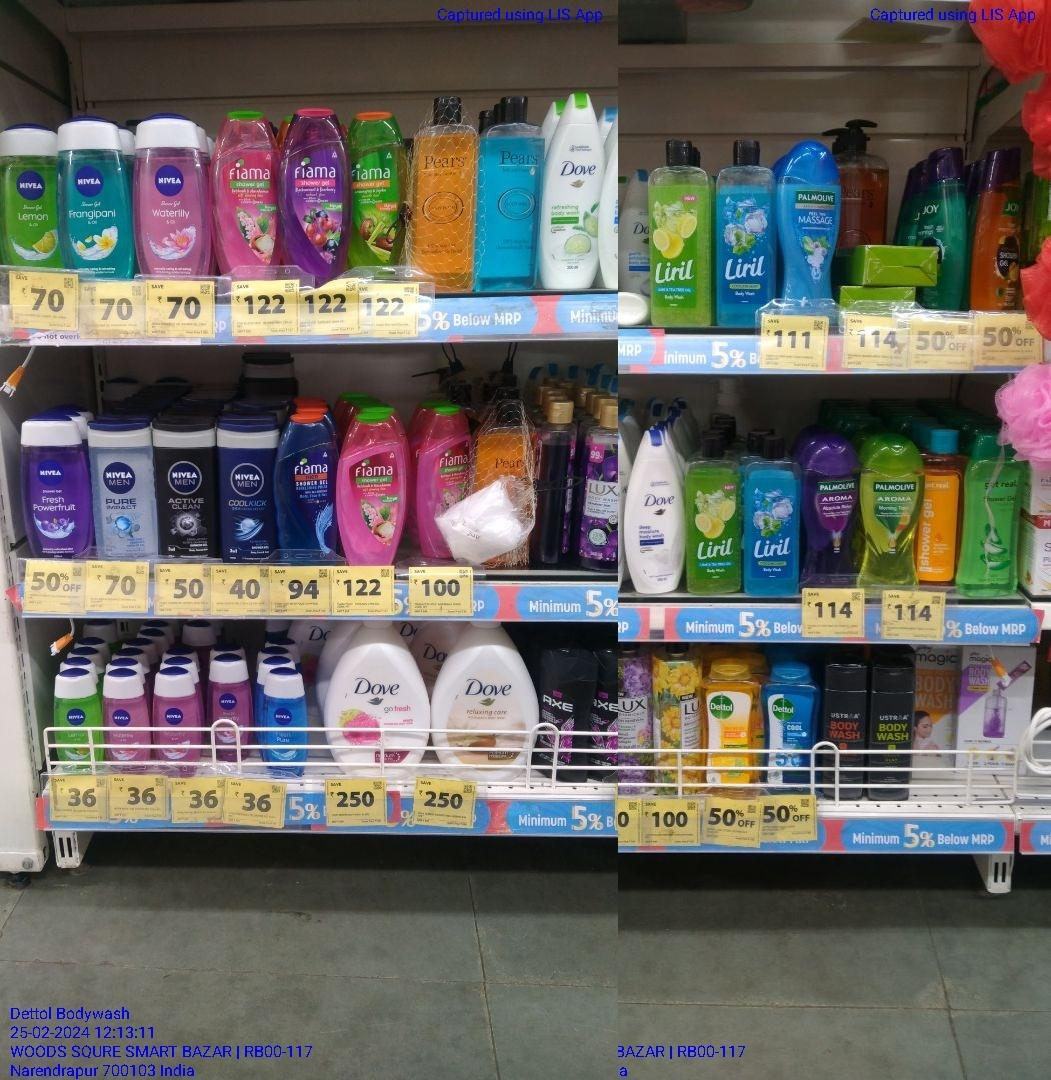Dettol_Bodywash_Cool: (765, 666, 817, 793)
Dettol_Bodywash_Refresh: (699, 664, 761, 792)
Dove_Deep_Moisture_Body_Wash_250ML: (627, 427, 682, 593)
Dove_Refreshing_Body_Wash_250ML: (545, 93, 604, 288)
Fiama_Shower_Gel_Patchouli_and_Macadamia_250ML: (211, 111, 283, 285), (337, 410, 405, 564)
Liril_Cooling_Mint_Body_Wash_250ML: (716, 137, 775, 331), (745, 436, 799, 599)
Liril_Lime_and_Tea_Tree_Oil_Body_Wash_250ML: (648, 139, 711, 323), (684, 436, 741, 593)
Nivea_Shower_Gel_Frangipani_and_Oil_250ML: (61, 117, 132, 275)
Nivea_Shower_Gel_Lemon_and_Oil_250ML: (0, 127, 58, 269)
Nivea_Shower_Gel_Waterlily_and_Oil_250ML: (134, 114, 204, 276)
Palmolive_Aroma_Moments_Feel_The_Massage_Shower_Gel_250ML: (780, 142, 844, 309)
Palmolive_Aroma_Morning_Tonic_Shower_Gel_250ML: (862, 434, 925, 586)
Palmolive_Aroma_Relax_250ML: (807, 438, 860, 586)
Pears_Pure_Glycerin_and_Mint_Extracts_Body_Wash_250ML: (482, 94, 541, 292)
